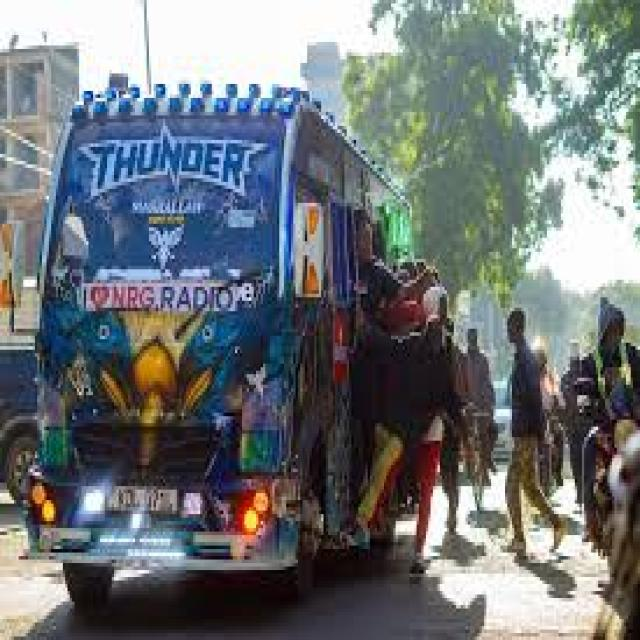bus: (9, 55, 474, 621)
